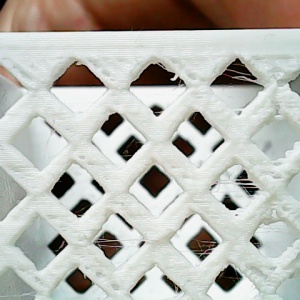3dpstringing: (210, 166, 262, 209), (96, 234, 148, 257), (214, 68, 275, 87), (185, 237, 220, 261), (40, 127, 60, 169), (143, 63, 181, 84), (4, 285, 38, 299)
3dpunderextrusion: (243, 259, 297, 294), (82, 265, 128, 295), (266, 68, 296, 97), (77, 154, 110, 179), (258, 200, 296, 221), (90, 62, 120, 88), (264, 96, 291, 120), (266, 159, 290, 186), (185, 71, 210, 89)
